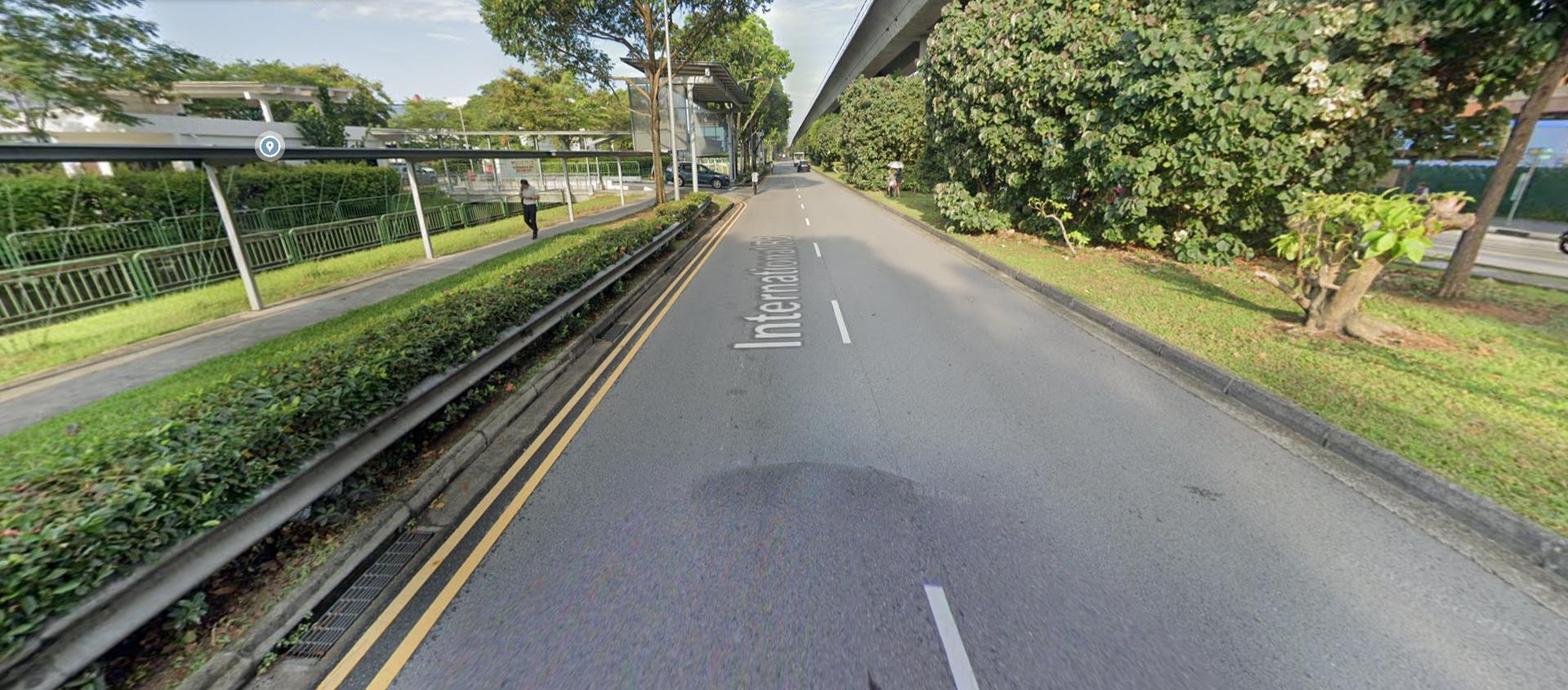defect: (281, 532, 438, 660)
